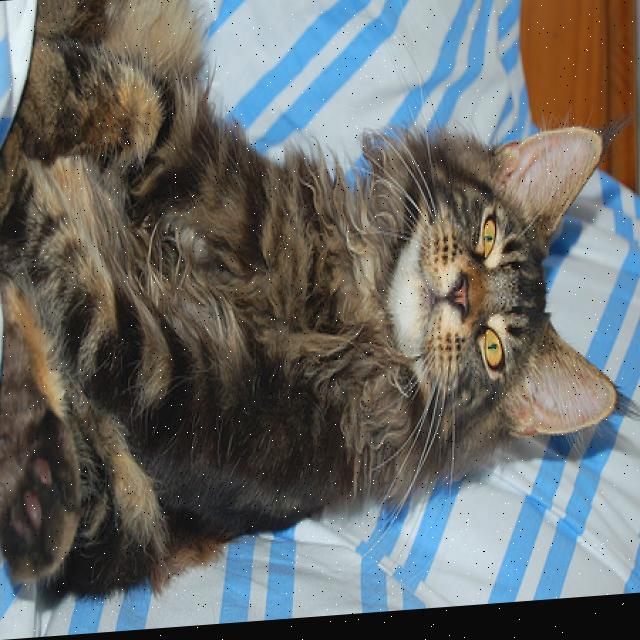Maine Coon: (0, 0, 637, 608)
